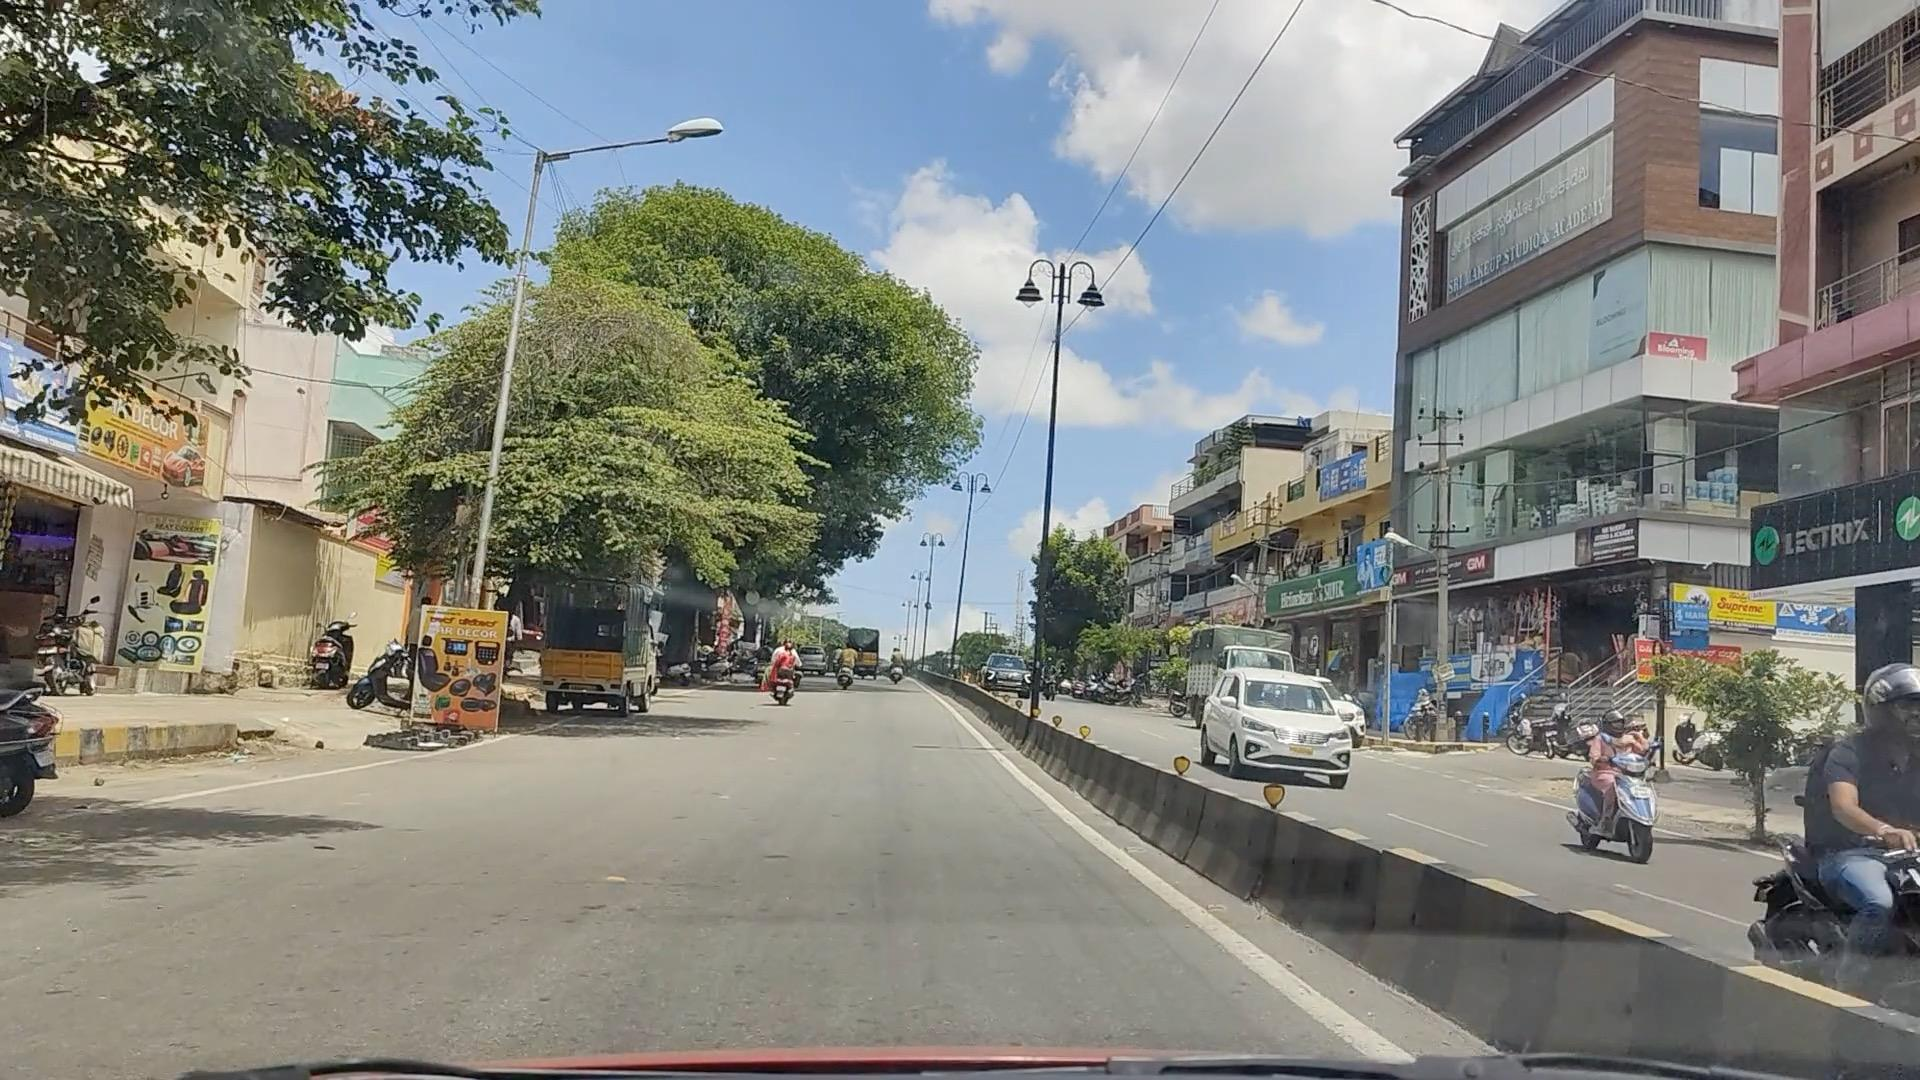HMV: (543, 574, 636, 720)
